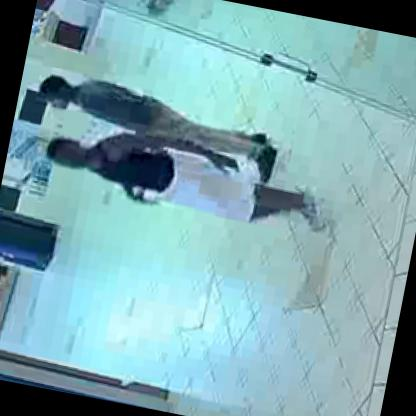Human Body: (39, 115, 331, 240), (28, 80, 280, 182)
